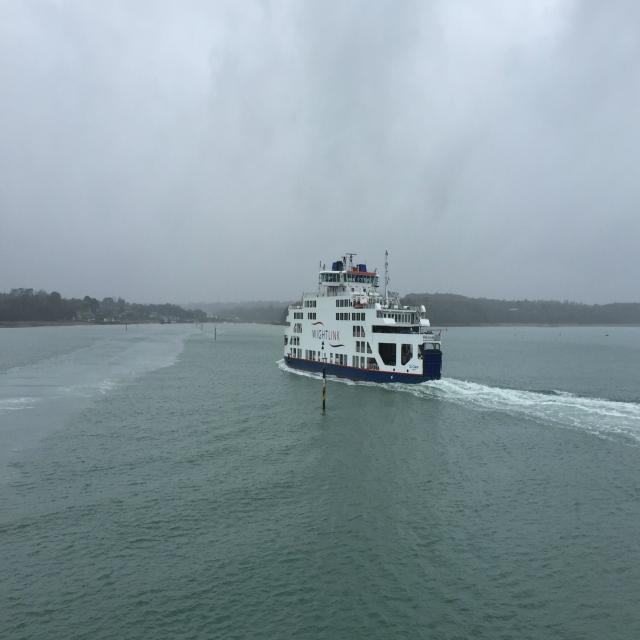houseboat: (277, 248, 453, 404)
